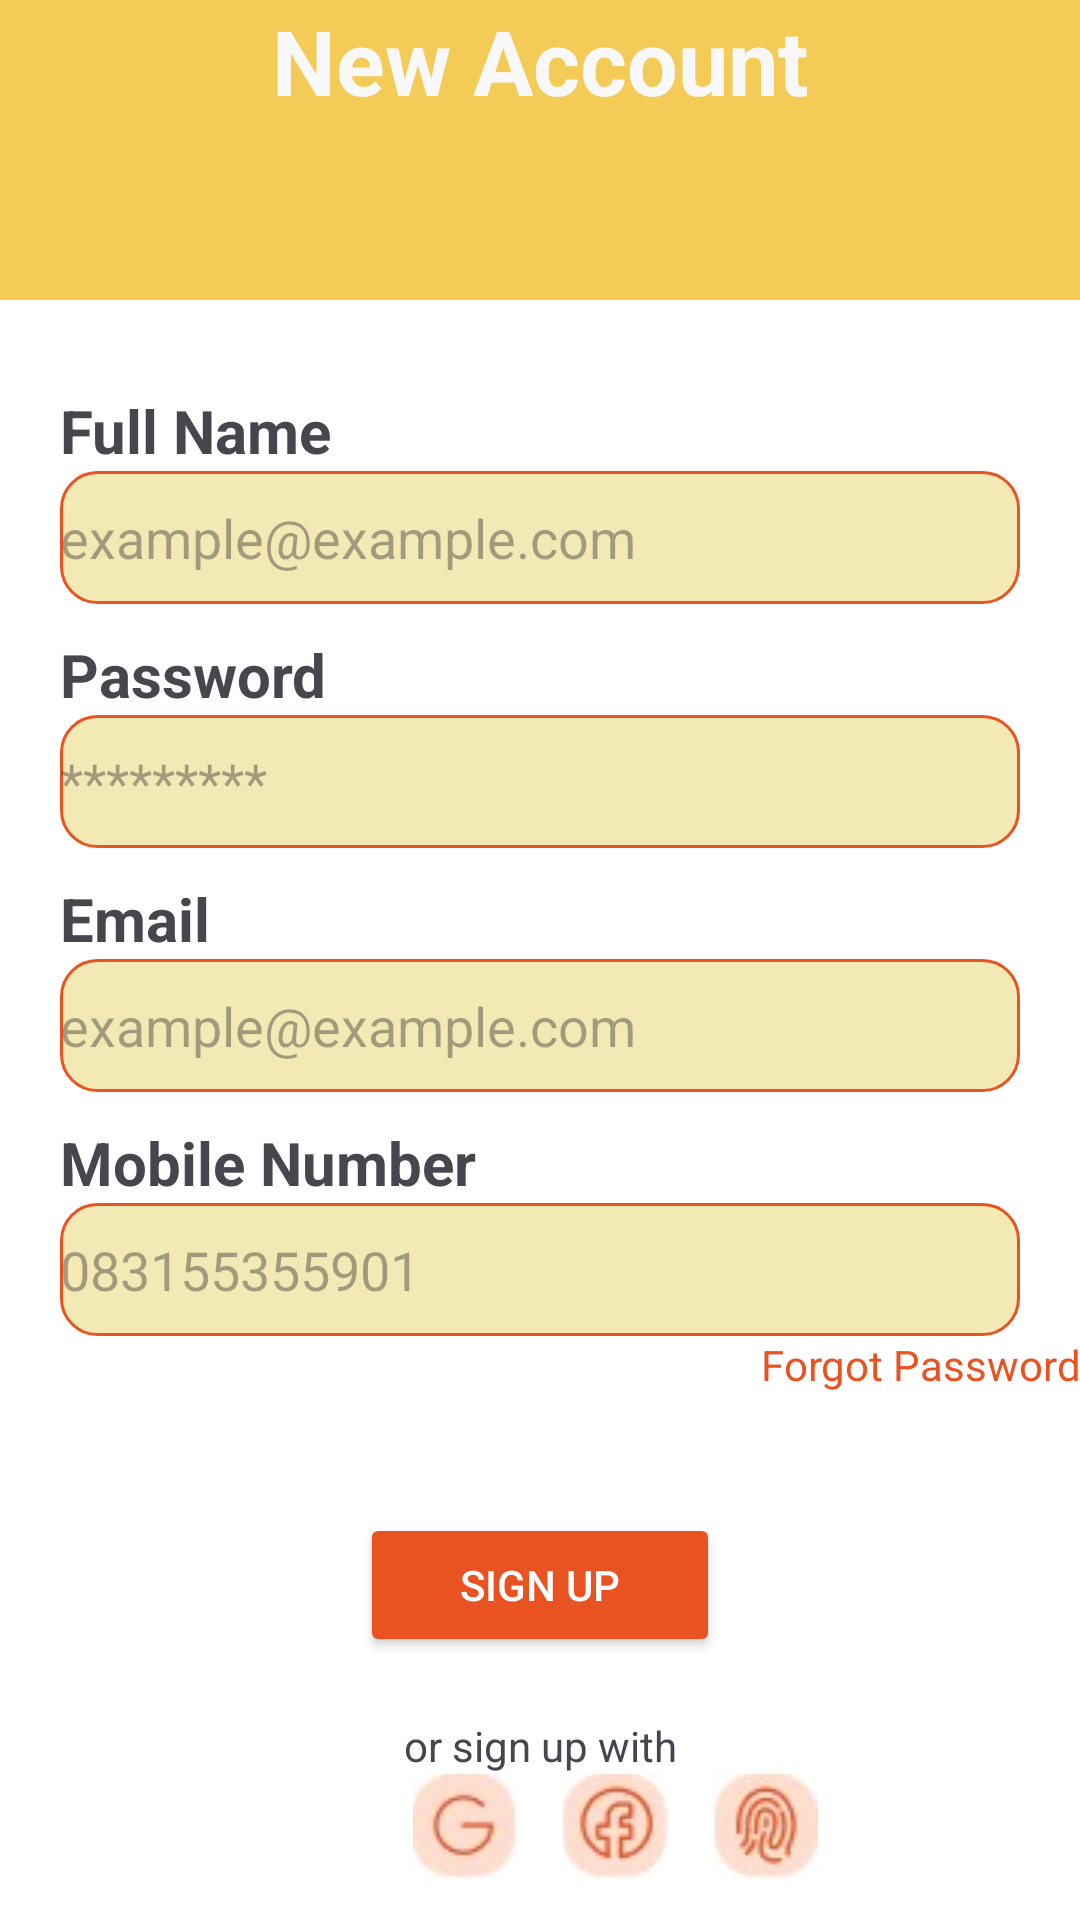

Named icons in this screenshot (1080 × 1920) and their bounding boxes, [left=x1, top=y1, right=x2, bottom=y2]:
finger: [left=715, top=1774, right=818, bottom=1877]
